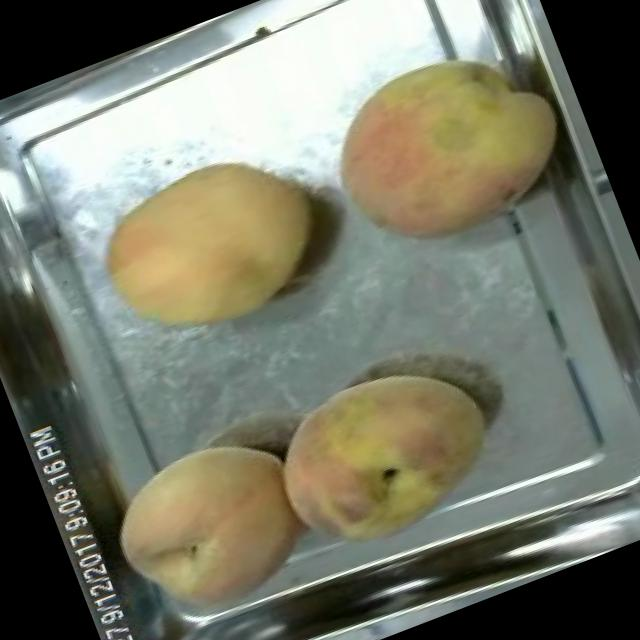Fruit: (298, 10, 596, 282), (243, 334, 524, 584), (72, 126, 348, 370), (83, 413, 333, 640)
